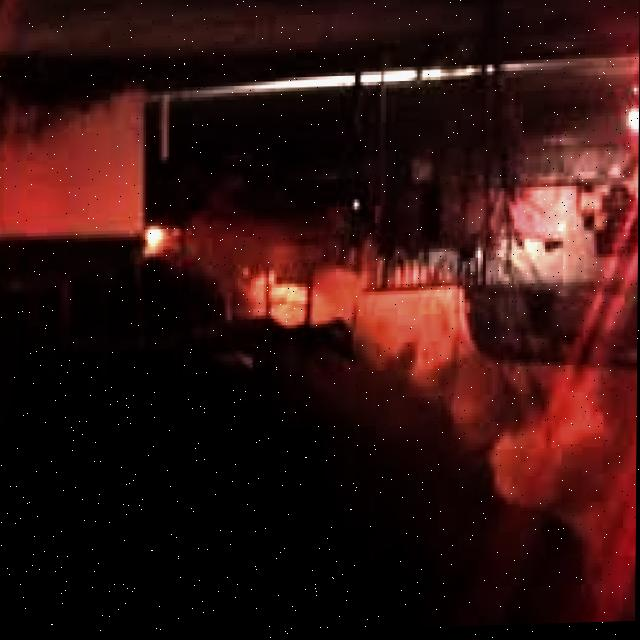Smoke: (276, 243, 638, 565)
